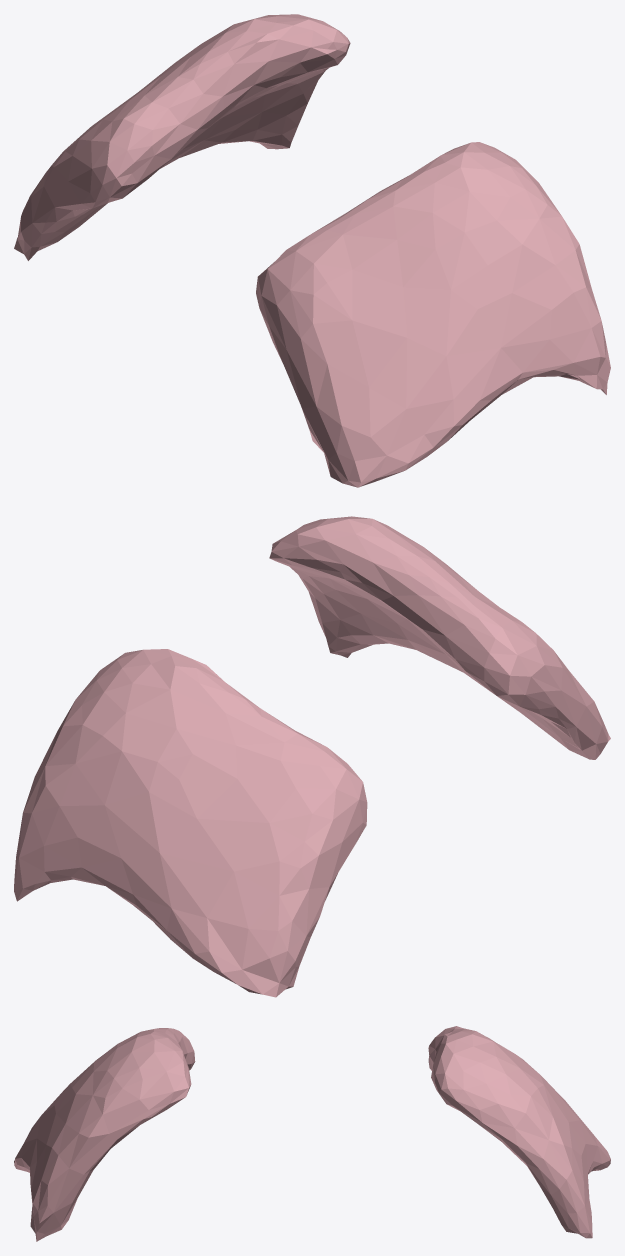
The picture shows the model from 3 angles, top to bottom: view 1: azimuth 30°, elevation 25°; view 2: azimuth 150°, elevation 25°; view 3: azimuth 270°, elevation 25°; orthographic projection. The views are drawn at different scales.
Visible parts, largest first — view 1: 907.obj; view 2: 907.obj; view 3: 907.obj.
Boxes of the visible parts, x1,y1,x2,y2 form: 907.obj: (14, 14, 610, 487); 907.obj: (14, 516, 610, 997); 907.obj: (14, 1026, 610, 1241).
Bounding box in the file's own units: 878 × 733 × 1973.
